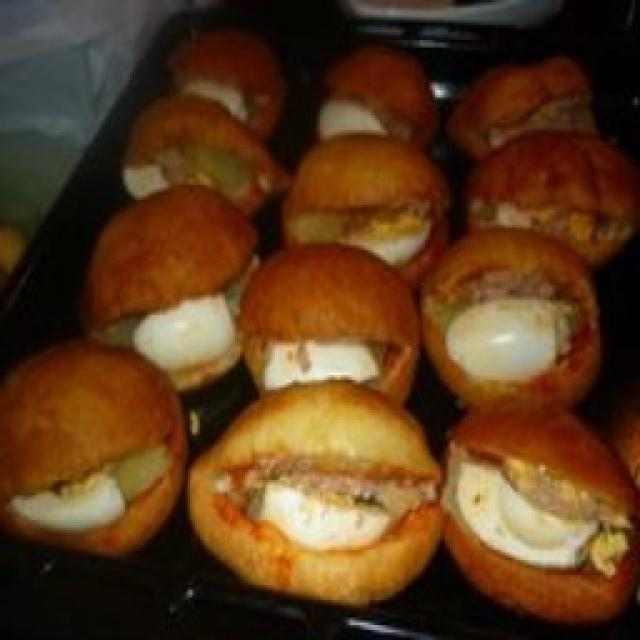Frecasse: (0, 30, 640, 638)
